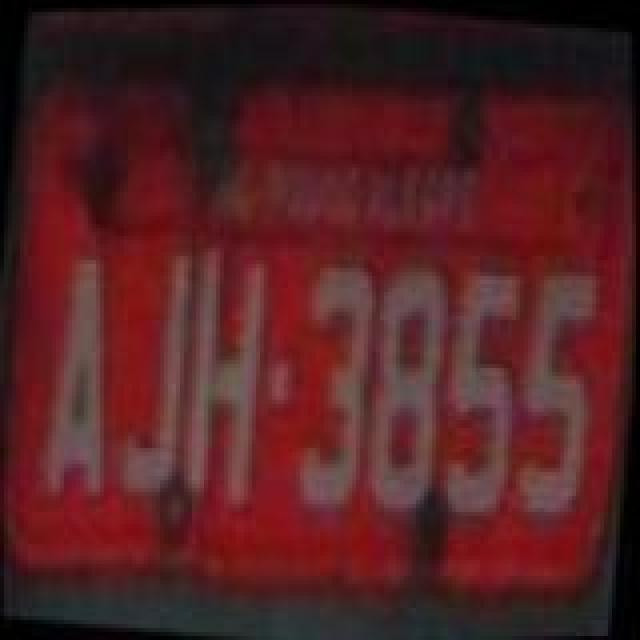3: (280, 252, 388, 520)
5: (426, 260, 538, 524), (498, 256, 610, 520)
8: (348, 256, 464, 524)
A: (34, 246, 138, 514)
H: (164, 240, 280, 516)
J: (106, 232, 210, 500)
